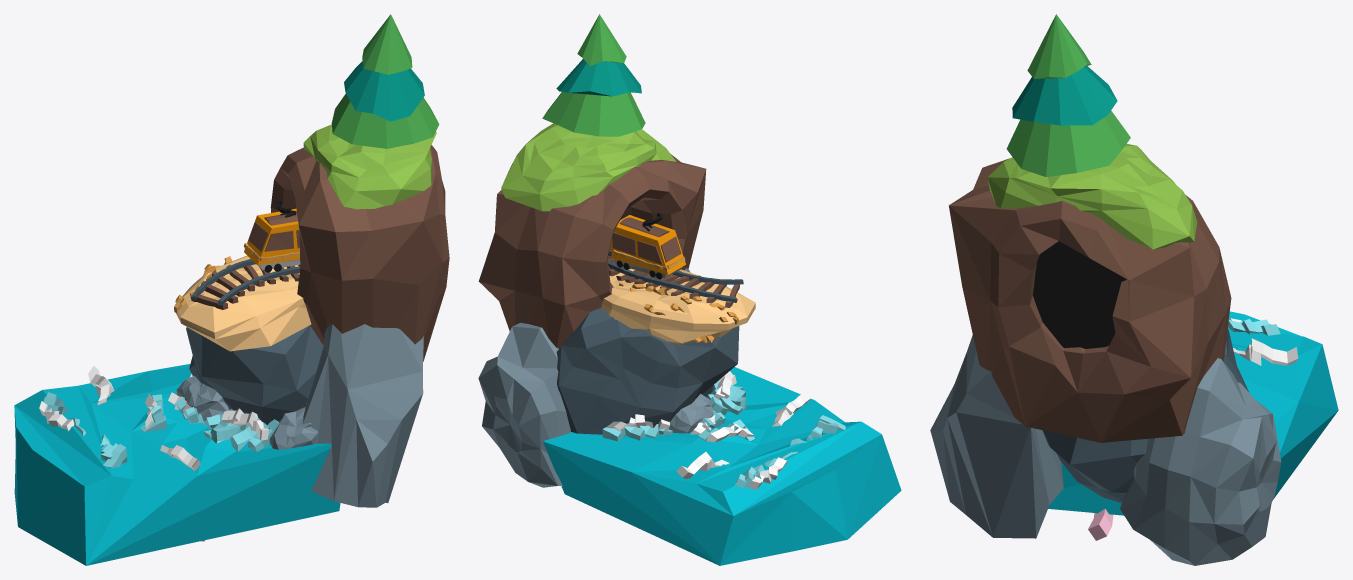
File: scene_YTRgIXCu9N.glb
3 renders of one model, left to right at view 1: azimuth 30°, elevation 25°; view 2: azimuth 150°, elevation 25°; view 3: azimuth 270°, elevation 25°, orthographic. The views are drawn at different scales.
Parts seen in each view (by area): view 1: group487669610, group800355495, group1203500723, group1583218658, group488598874, group720526630, group220909703, group411404306, group2028620725, group762224913, group1008860341, group2126102770 (+5 smaller); view 2: group487669610, group800355495, group1583218658, group345526782, group720526630, group488598874, group220909703, group411404306, group901088429, group2028620725, group2126102770, group654815276 (+4 smaller); view 3: group800355495, group345526782, group1203500723, group720526630, group487669610, group2137214086, group220909703, group1583218658, group411404306, group2028620725, group1884670997, group271427262 (+1 smaller).
Part boxes in pixels (bbox=[...]): group487669610: bbox=[14, 364, 340, 565]; group800355495: bbox=[270, 145, 449, 361]; group1203500723: bbox=[302, 324, 423, 507]; group1583218658: bbox=[186, 325, 323, 424]; group488598874: bbox=[174, 255, 311, 351]; group720526630: bbox=[303, 124, 436, 209]; group220909703: bbox=[331, 93, 439, 148]; group411404306: bbox=[344, 61, 424, 121]; group2028620725: bbox=[362, 14, 412, 74]; group762224913: bbox=[269, 407, 318, 449]; group1008860341: bbox=[204, 409, 279, 451]; group2126102770: bbox=[176, 375, 229, 420]; group487669610: bbox=[543, 367, 901, 565]; group800355495: bbox=[478, 154, 706, 348]; group1583218658: bbox=[556, 308, 739, 434]; group345526782: bbox=[478, 322, 570, 487]; group720526630: bbox=[501, 123, 675, 211]; group488598874: bbox=[601, 268, 755, 344]; group220909703: bbox=[542, 92, 645, 136]; group411404306: bbox=[556, 59, 641, 96]; group901088429: bbox=[611, 215, 685, 274]; group2028620725: bbox=[577, 14, 626, 66]; group2126102770: bbox=[668, 394, 713, 433]; group654815276: bbox=[602, 424, 672, 441]; group800355495: bbox=[948, 158, 1231, 442]; group345526782: bbox=[1120, 358, 1281, 565]; group1203500723: bbox=[930, 335, 1063, 538]; group720526630: bbox=[987, 144, 1197, 249]; group487669610: bbox=[1048, 311, 1338, 515]; group2137214086: bbox=[1033, 241, 1126, 348]; group220909703: bbox=[1006, 110, 1130, 176]; group1583218658: bbox=[1042, 328, 1248, 502]; group411404306: bbox=[1012, 66, 1117, 125]; group2028620725: bbox=[1027, 14, 1091, 79]; group1884670997: bbox=[1233, 338, 1298, 365]; group271427262: bbox=[1228, 319, 1280, 335].
Size of the model in its own units: 2.84 by 3.31 by 2.14.
